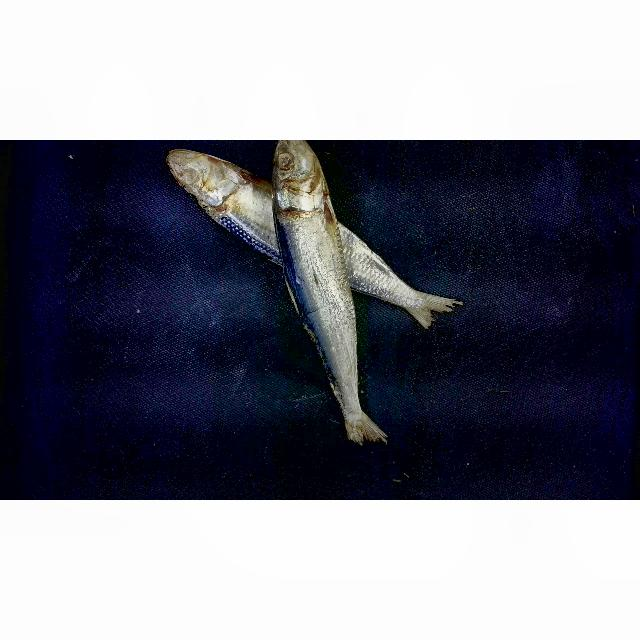Grade_A_Body: (270, 210, 379, 370)
Grade_A_Head: (149, 150, 258, 213), (259, 140, 349, 206)
Grade_A_Tail: (358, 221, 461, 358), (318, 380, 407, 461)
